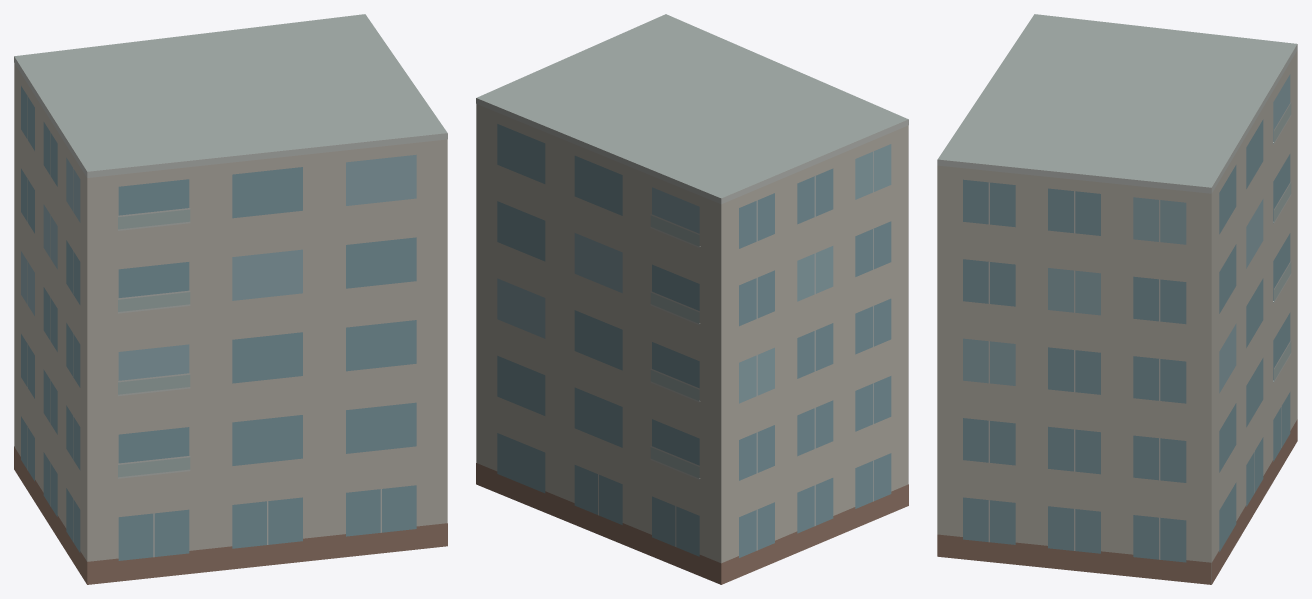
File: survey-upis-33028145.glb
3 views of the same model, side by side, from view 1: azimuth 30°, elevation 25°; view 2: azimuth 150°, elevation 25°; view 3: azimuth 270°, elevation 25° (orthographic). The views are drawn at different scales.
Parts seen in each view (by area): view 1: survey-upis-33028145.tmp; view 2: survey-upis-33028145.tmp; view 3: survey-upis-33028145.tmp.
Part boxes in pixels (<box>): survey-upis-33028145.tmp: <box>14,14,447,584</box>; survey-upis-33028145.tmp: <box>476,14,908,584</box>; survey-upis-33028145.tmp: <box>937,14,1297,584</box>.
Size of the model in its own units: 15.02 by 16 by 13.16.
